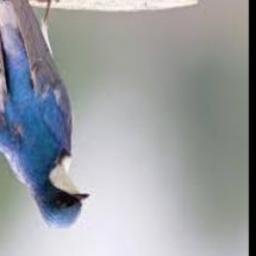Swallow: (0, 0, 88, 228)
